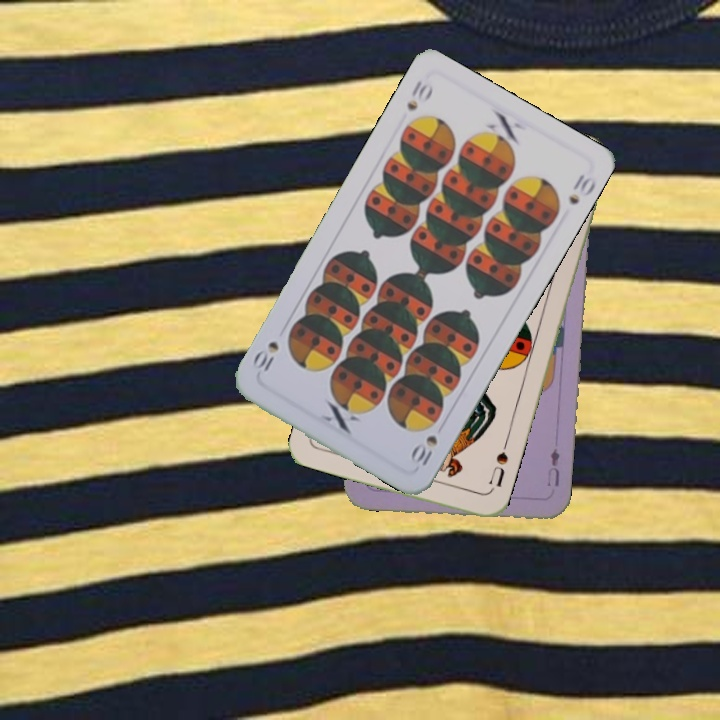EU: (543, 445, 562, 489)
S10: (406, 431, 441, 471), (402, 76, 436, 113)
SU: (485, 447, 511, 490)
